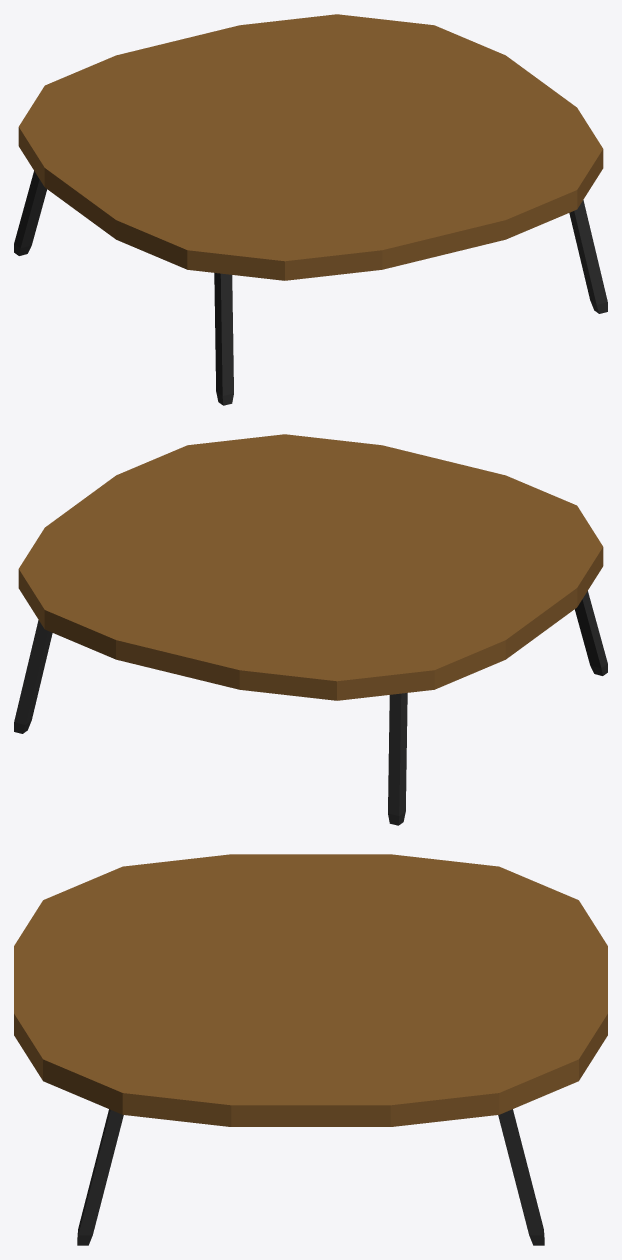
The model's file is Table_1.fbx.
3 renders of one model, top to bottom at view 1: azimuth 30°, elevation 25°; view 2: azimuth 150°, elevation 25°; view 3: azimuth 270°, elevation 25°, orthographic. The views are drawn at different scales.
Parts seen in each view (by area): view 1: Table_1; view 2: Table_1; view 3: Table_1.
Part boxes in pixels (x1,y1,x2,y2): Table_1: (14, 14, 607, 405); Table_1: (14, 434, 607, 825); Table_1: (14, 854, 607, 1245).
Bounding box in the file's own units: 0.591 × 0.177 × 0.591.
